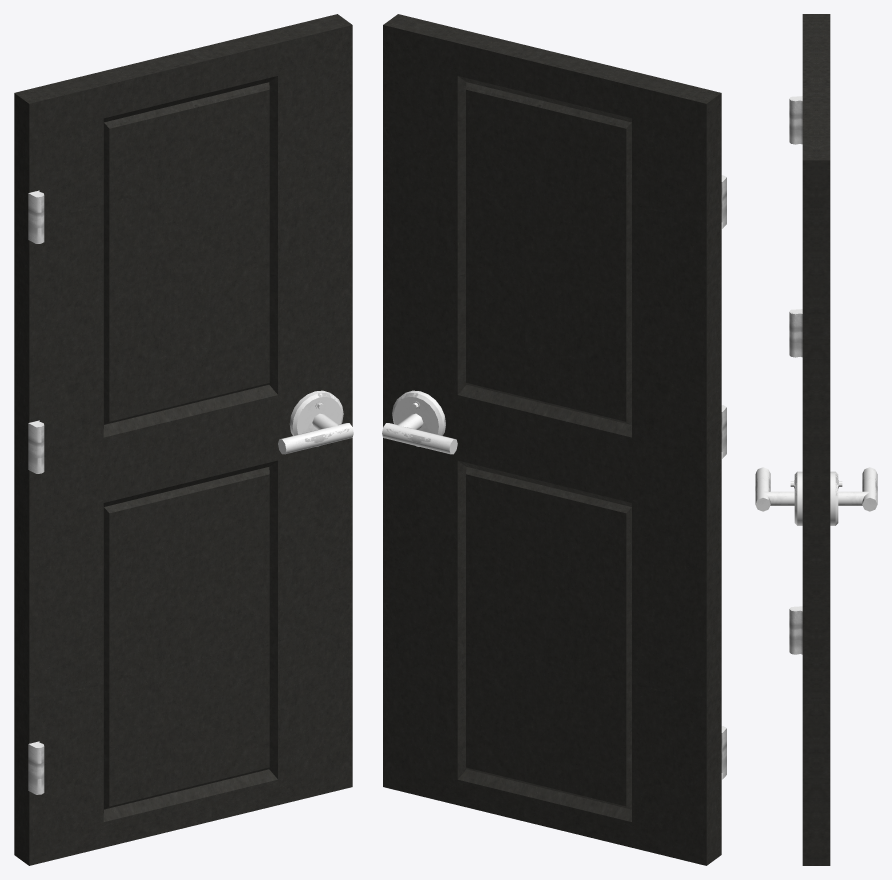
File: DoorBlack.fbx
3 renders of one model, left to right at view 1: azimuth 30°, elevation 25°; view 2: azimuth 150°, elevation 25°; view 3: azimuth 270°, elevation 25°, orthographic. The views are drawn at different scales.
Parts seen in each view (by area): view 1: Door.003, Door.002; view 2: Door.002, Door.003; view 3: Door.003, Door.002.
Part boxes in pixels (box(x1,y1,x2,y2)): Door.003: box(21, 19, 353, 865); Door.002: box(14, 14, 344, 859); Door.002: box(382, 19, 713, 865); Door.003: box(391, 14, 726, 860); Door.003: box(755, 14, 816, 865); Door.002: box(816, 14, 877, 865).
Bounding box in the file's own units: 74.56 × 167 × 26.29.
